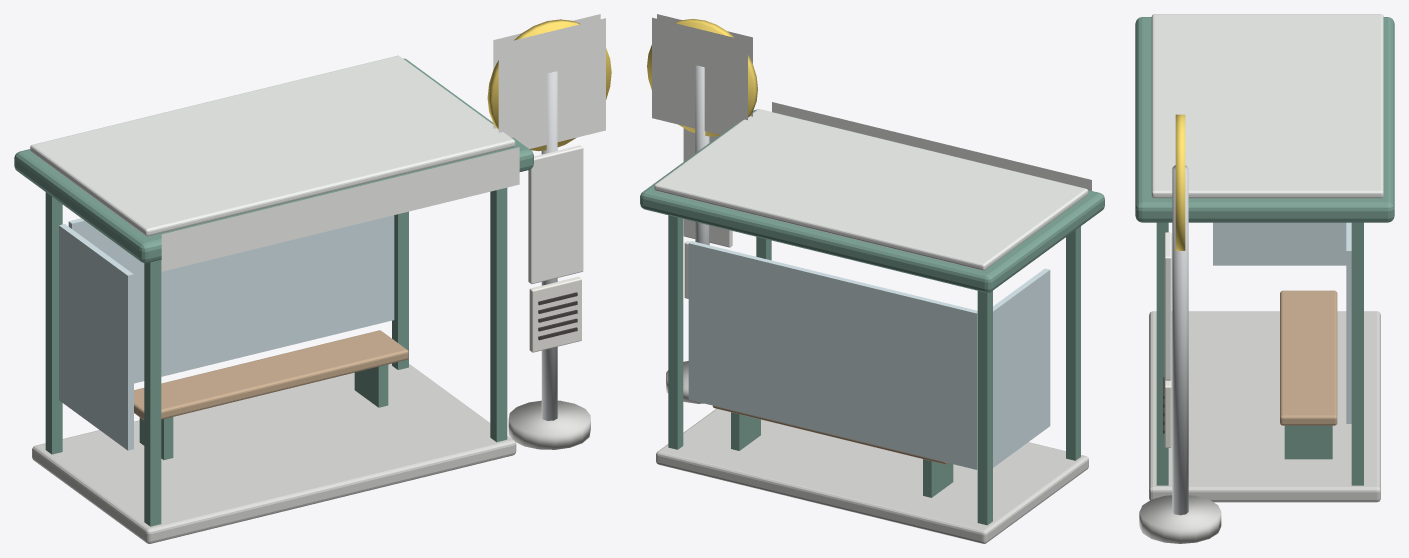
Rendered from bus_shelter.glb.
3 renders of one model, left to right at view 1: azimuth 30°, elevation 25°; view 2: azimuth 150°, elevation 25°; view 3: azimuth 270°, elevation 25°, orthographic. The views are drawn at different scales.
Parts seen in each view (by area): view 1: bus_shelter; view 2: bus_shelter; view 3: bus_shelter.
Boxes of the visible parts, bbox=[...] form: bus_shelter: bbox=[14, 14, 611, 543]; bus_shelter: bbox=[640, 14, 1104, 543]; bus_shelter: bbox=[1135, 14, 1394, 543].
Bounding box in the file's own units: 4.1 × 3.28 × 1.91.
